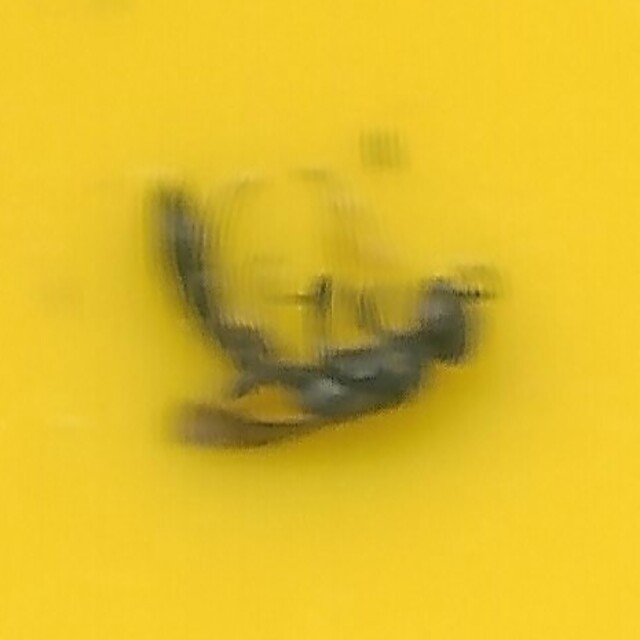Hymenoptera: (138, 175, 502, 465)
